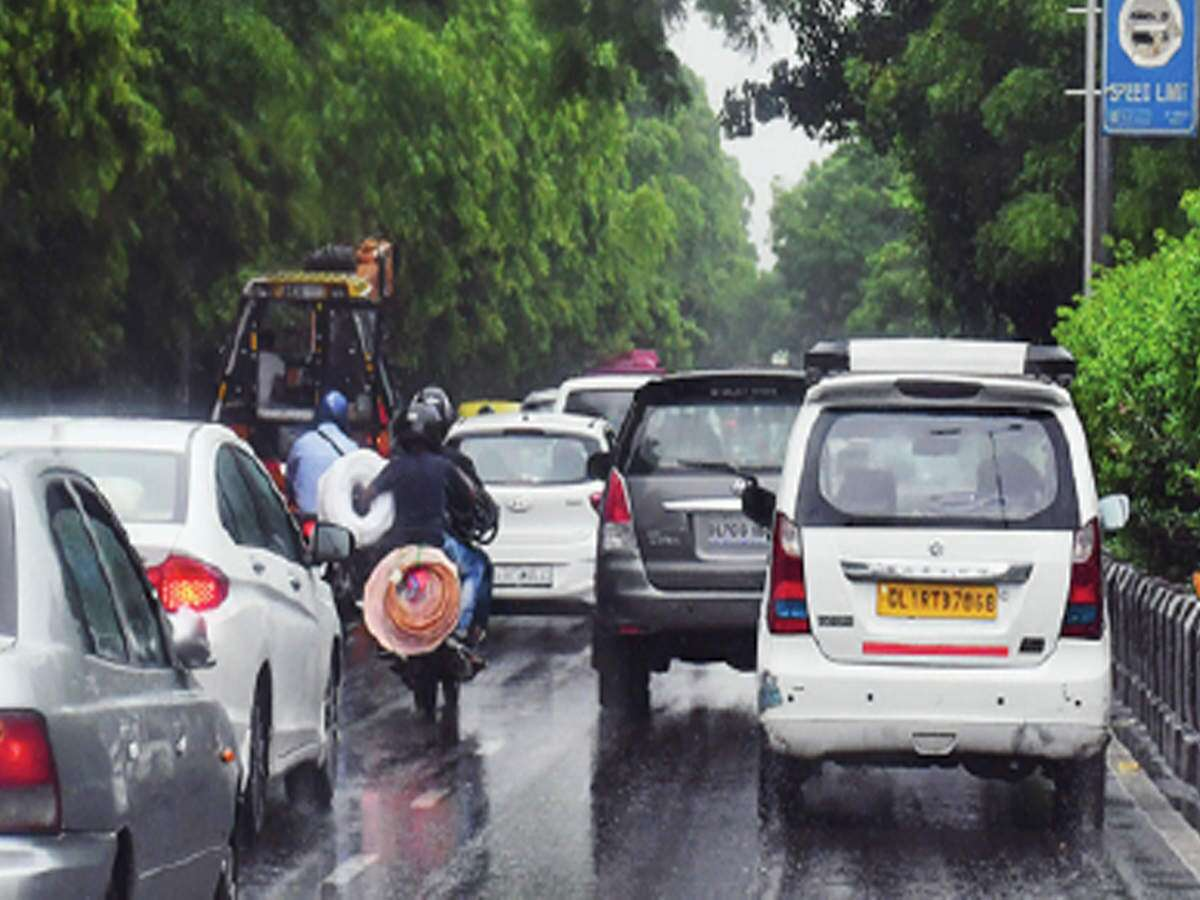bike: (366, 406, 479, 725)
car: (763, 372, 1110, 818), (14, 406, 348, 812), (1, 464, 248, 900), (596, 370, 810, 710), (453, 420, 617, 638)
